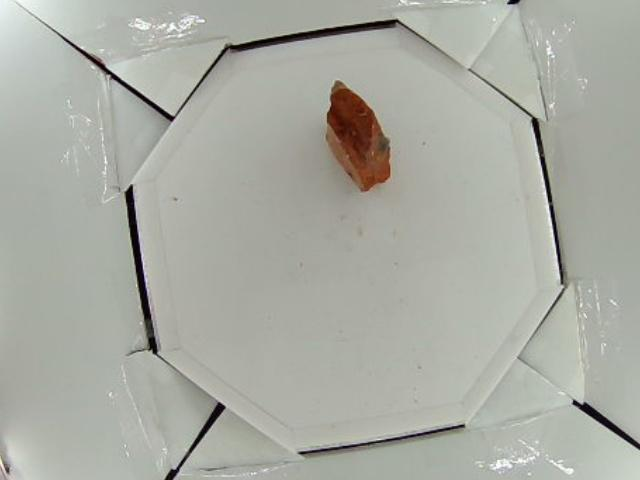Brisk: (328, 81, 390, 191)
